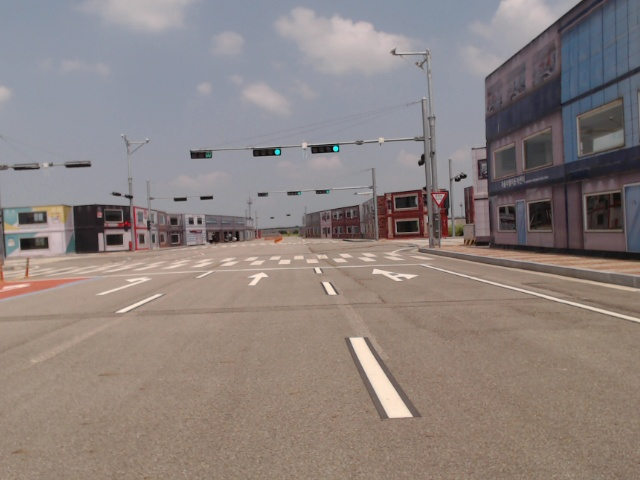straight_green_4: (253, 146, 282, 158), (311, 143, 339, 153), (316, 189, 330, 195), (286, 191, 302, 196)
